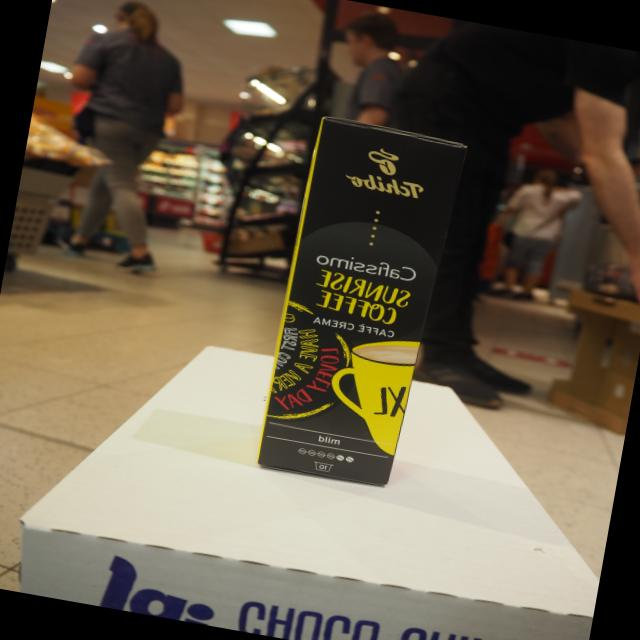Simo Sunrise: (253, 114, 469, 491)
